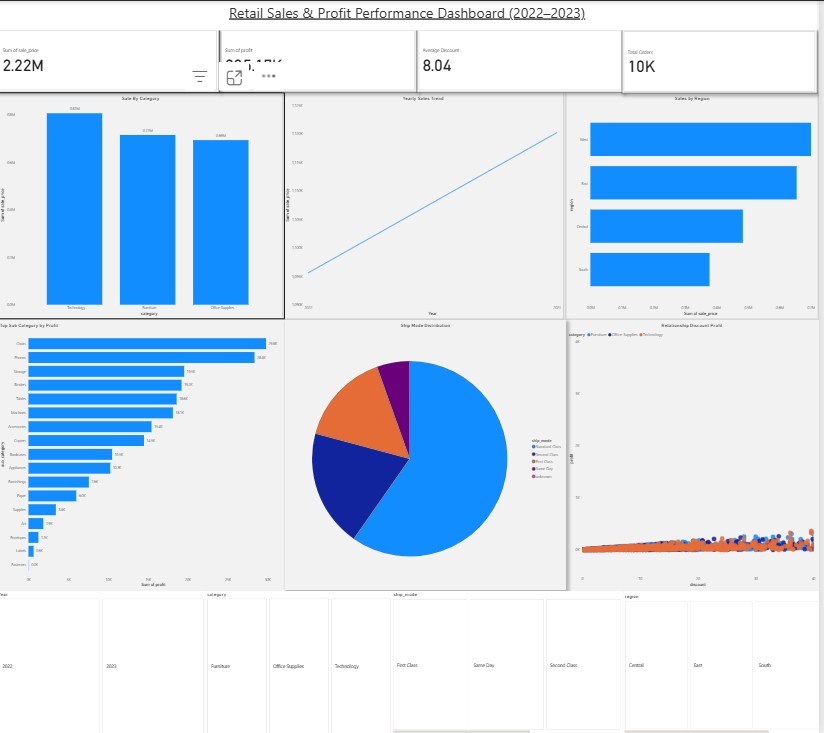

What the dashboard file says about the page in this screenshot:
{"tool":"powerbi","page":{"name":"Page 1","canvas":[2800,2500],"ordinal":0},"visuals":[{"type":"cardVisual","fields":{"Data":["Sum(cleaned_retail_data.sale_price)"]},"box":[0,95.7,756.5,217.4],"z":0},{"type":"cardVisual","fields":{"Data":["Sum(cleaned_retail_data.profit)"]},"box":[756.5,95.7,673.9,217.4],"z":1000},{"type":"cardVisual","fields":{"Data":["cleaned_retail_data.Average Discount"]},"box":[1430.4,95.7,704.3,217.4],"z":2000},{"type":"cardVisual","fields":{"Data":["cleaned_retail_data.Total Orders"]},"box":[2130.4,100,665.2,217.4],"z":3000},{"type":"clusteredColumnChart","title":"Sale By Category","fields":{"Category":["cleaned_retail_data.category"],"Y":["Sum(cleaned_retail_data.sale_price)"]},"box":[0,313,978.3,773.9],"z":4000},{"type":"lineChart","title":"Yearly Sales Trend","fields":{"Category":["cleaned_retail_data.month.Variation.Date Hierarchy.Year","cleaned_retail_data.month.Variation.Date Hierarchy.Quarter","cleaned_retail_data.month.Variation.Date Hierarchy.Month","cleaned_retail_data.month.Variation.Date Hierarchy.Day"],"Y":["Sum(cleaned_retail_data.sale_price)"]},"box":[969.6,313,960.9,773.9],"z":5000},{"type":"barChart","title":"Sales by Region","fields":{"Category":["cleaned_retail_data.region"],"Y":["Sum(cleaned_retail_data.sale_price)"]},"box":[1939.1,313,860.9,773.9],"z":6000},{"type":"barChart","title":"Top Sub Category by Profit","fields":{"Category":["cleaned_retail_data.sub_category"],"Y":["Sum(cleaned_retail_data.profit)"]},"box":[0,1087,978.3,921.7],"z":7000},{"type":"pieChart","title":"Ship Mode Distribution","fields":{"Category":["cleaned_retail_data.ship_mode"],"Y":["cleaned_retail_data.Total Orders"]},"box":[978.3,1087,960.9,921.7],"z":8000},{"type":"scatterChart","title":"Relationship Discount Profit","fields":{"X":["cleaned_retail_data.discount"],"Y":["cleaned_retail_data.profit"],"Series":["cleaned_retail_data.category"]},"box":[1939.1,1087,860.9,921.7],"z":9000},{"type":"advancedSlicerVisual","fields":{"Values":["cleaned_retail_data.order_date.Variation.Date Hierarchy.Year"]},"box":[0,2010,710,490],"z":10000},{"type":"advancedSlicerVisual","fields":{"Values":["cleaned_retail_data.category"]},"box":[710,2010,636.7,490],"z":11000},{"type":"advancedSlicerVisual","fields":{"Values":["cleaned_retail_data.ship_mode"]},"box":[1346.7,2010,786.7,490],"z":12000},{"type":"advancedSlicerVisual","fields":{"Values":["cleaned_retail_data.region"]},"box":[2133.3,2010,666.7,490],"z":13000},{"type":"textbox","box":[0,0,2795.7,100],"z":13001}]}

Visuals, with their boxes in screenshot pixels (x1, y1, x2, y2):
cardVisual - Sum(cleaned_retail_data.sale_price): {"left": 0, "top": 28, "right": 219, "bottom": 91}
cardVisual - Sum(cleaned_retail_data.profit): {"left": 219, "top": 28, "right": 414, "bottom": 91}
cardVisual - cleaned_retail_data.Average Discount: {"left": 414, "top": 28, "right": 618, "bottom": 91}
cardVisual - cleaned_retail_data.Total Orders: {"left": 617, "top": 29, "right": 809, "bottom": 92}
"Sale By Category" clusteredColumnChart: {"left": 0, "top": 91, "right": 283, "bottom": 315}
"Yearly Sales Trend" lineChart: {"left": 281, "top": 91, "right": 559, "bottom": 315}
"Sales by Region" barChart: {"left": 561, "top": 91, "right": 811, "bottom": 315}
"Top Sub Category by Profit" barChart: {"left": 0, "top": 315, "right": 283, "bottom": 581}
"Ship Mode Distribution" pieChart: {"left": 283, "top": 315, "right": 561, "bottom": 581}
"Relationship Discount Profit" scatterChart: {"left": 561, "top": 315, "right": 811, "bottom": 581}
advancedSlicerVisual - cleaned_retail_data.order_date.Variation.Date Hierarchy.Year: {"left": 0, "top": 582, "right": 206, "bottom": 724}
advancedSlicerVisual - cleaned_retail_data.category: {"left": 206, "top": 582, "right": 390, "bottom": 724}
advancedSlicerVisual - cleaned_retail_data.ship_mode: {"left": 390, "top": 582, "right": 618, "bottom": 724}
advancedSlicerVisual - cleaned_retail_data.region: {"left": 618, "top": 582, "right": 811, "bottom": 724}
textbox: {"left": 0, "top": 0, "right": 809, "bottom": 29}
